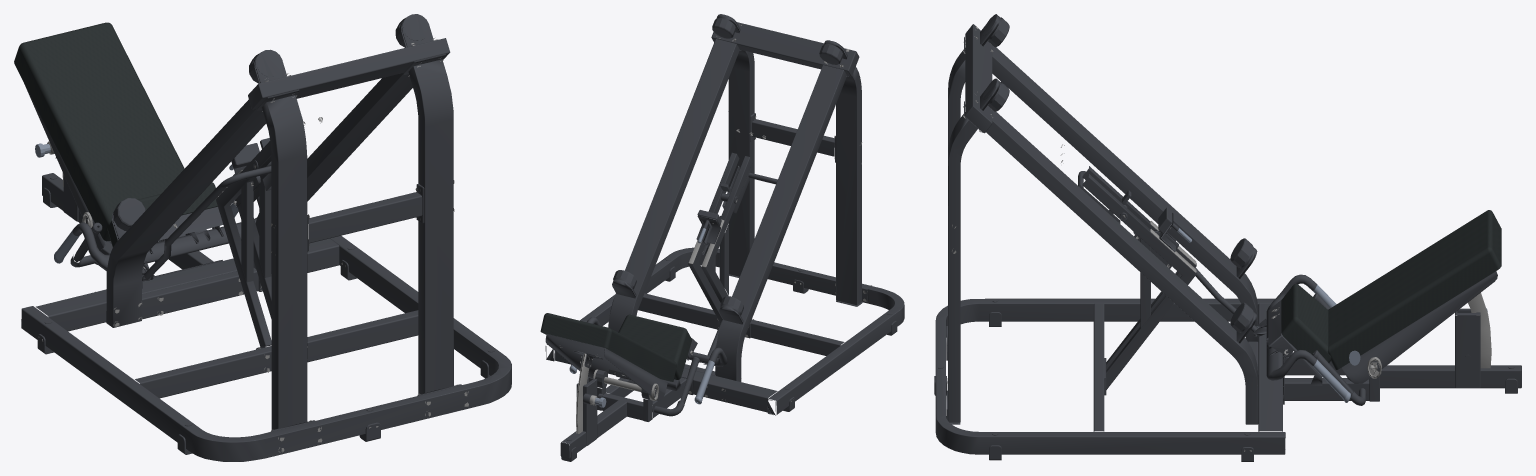
The model's file is linear-leg-press-sol.glb.
The picture shows the model from 3 angles, left to right: view 1: azimuth 30°, elevation 25°; view 2: azimuth 150°, elevation 25°; view 3: azimuth 270°, elevation 25°; orthographic projection. The views are drawn at different scales.
Parts seen in each view (by area): view 1: Fixed_4, Backrest_6, SeatFrame_4, Fixed_0, Backrest_4, SeatFrame_6, SeatFrame_2, Fixed_1, SeatFrame_0; view 2: Fixed_4, SeatFrame_4, Backrest_4, Backrest_6, SeatFrame_6, Fixed_0, SeatFrame_1, SeatFrame_0, SeatFrame_2, Fixed_1; view 3: Fixed_4, Backrest_6, SeatFrame_4, Backrest_4, SeatFrame_6, Fixed_0, SeatFrame_1, SeatFrame_2, SeatFrame_0.
Boxes of the visible parts, x1,y1,x2,y2 form: Fixed_4: (21, 14, 511, 461); Backrest_6: (14, 22, 184, 241); SeatFrame_4: (21, 173, 259, 327); Fixed_0: (37, 17, 495, 454); Backrest_4: (24, 84, 106, 250); SeatFrame_6: (107, 182, 217, 246); SeatFrame_2: (35, 143, 238, 263); Fixed_1: (38, 38, 468, 452); SeatFrame_0: (42, 173, 210, 262); Fixed_4: (547, 14, 904, 414); SeatFrame_4: (545, 317, 776, 457); Backrest_4: (545, 334, 667, 445); Backrest_6: (540, 313, 676, 381); SeatFrame_6: (618, 314, 691, 379); Fixed_0: (613, 18, 897, 411); SeatFrame_1: (560, 347, 725, 433); SeatFrame_0: (560, 357, 699, 461); SeatFrame_2: (569, 360, 714, 407); Fixed_1: (688, 23, 871, 401); Fixed_4: (935, 14, 1284, 454); Backrest_6: (1328, 210, 1501, 369); SeatFrame_4: (1266, 274, 1520, 453); Backrest_4: (1342, 271, 1497, 387); SeatFrame_6: (1281, 284, 1331, 362); Fixed_0: (934, 17, 1253, 461); SeatFrame_1: (1271, 292, 1491, 378); SeatFrame_2: (1313, 284, 1487, 402); SeatFrame_0: (1286, 293, 1521, 396).
Bounding box in the file's own units: 1.3 × 1.5 × 2.32.
Materials: 4 (1 with a texture image).
